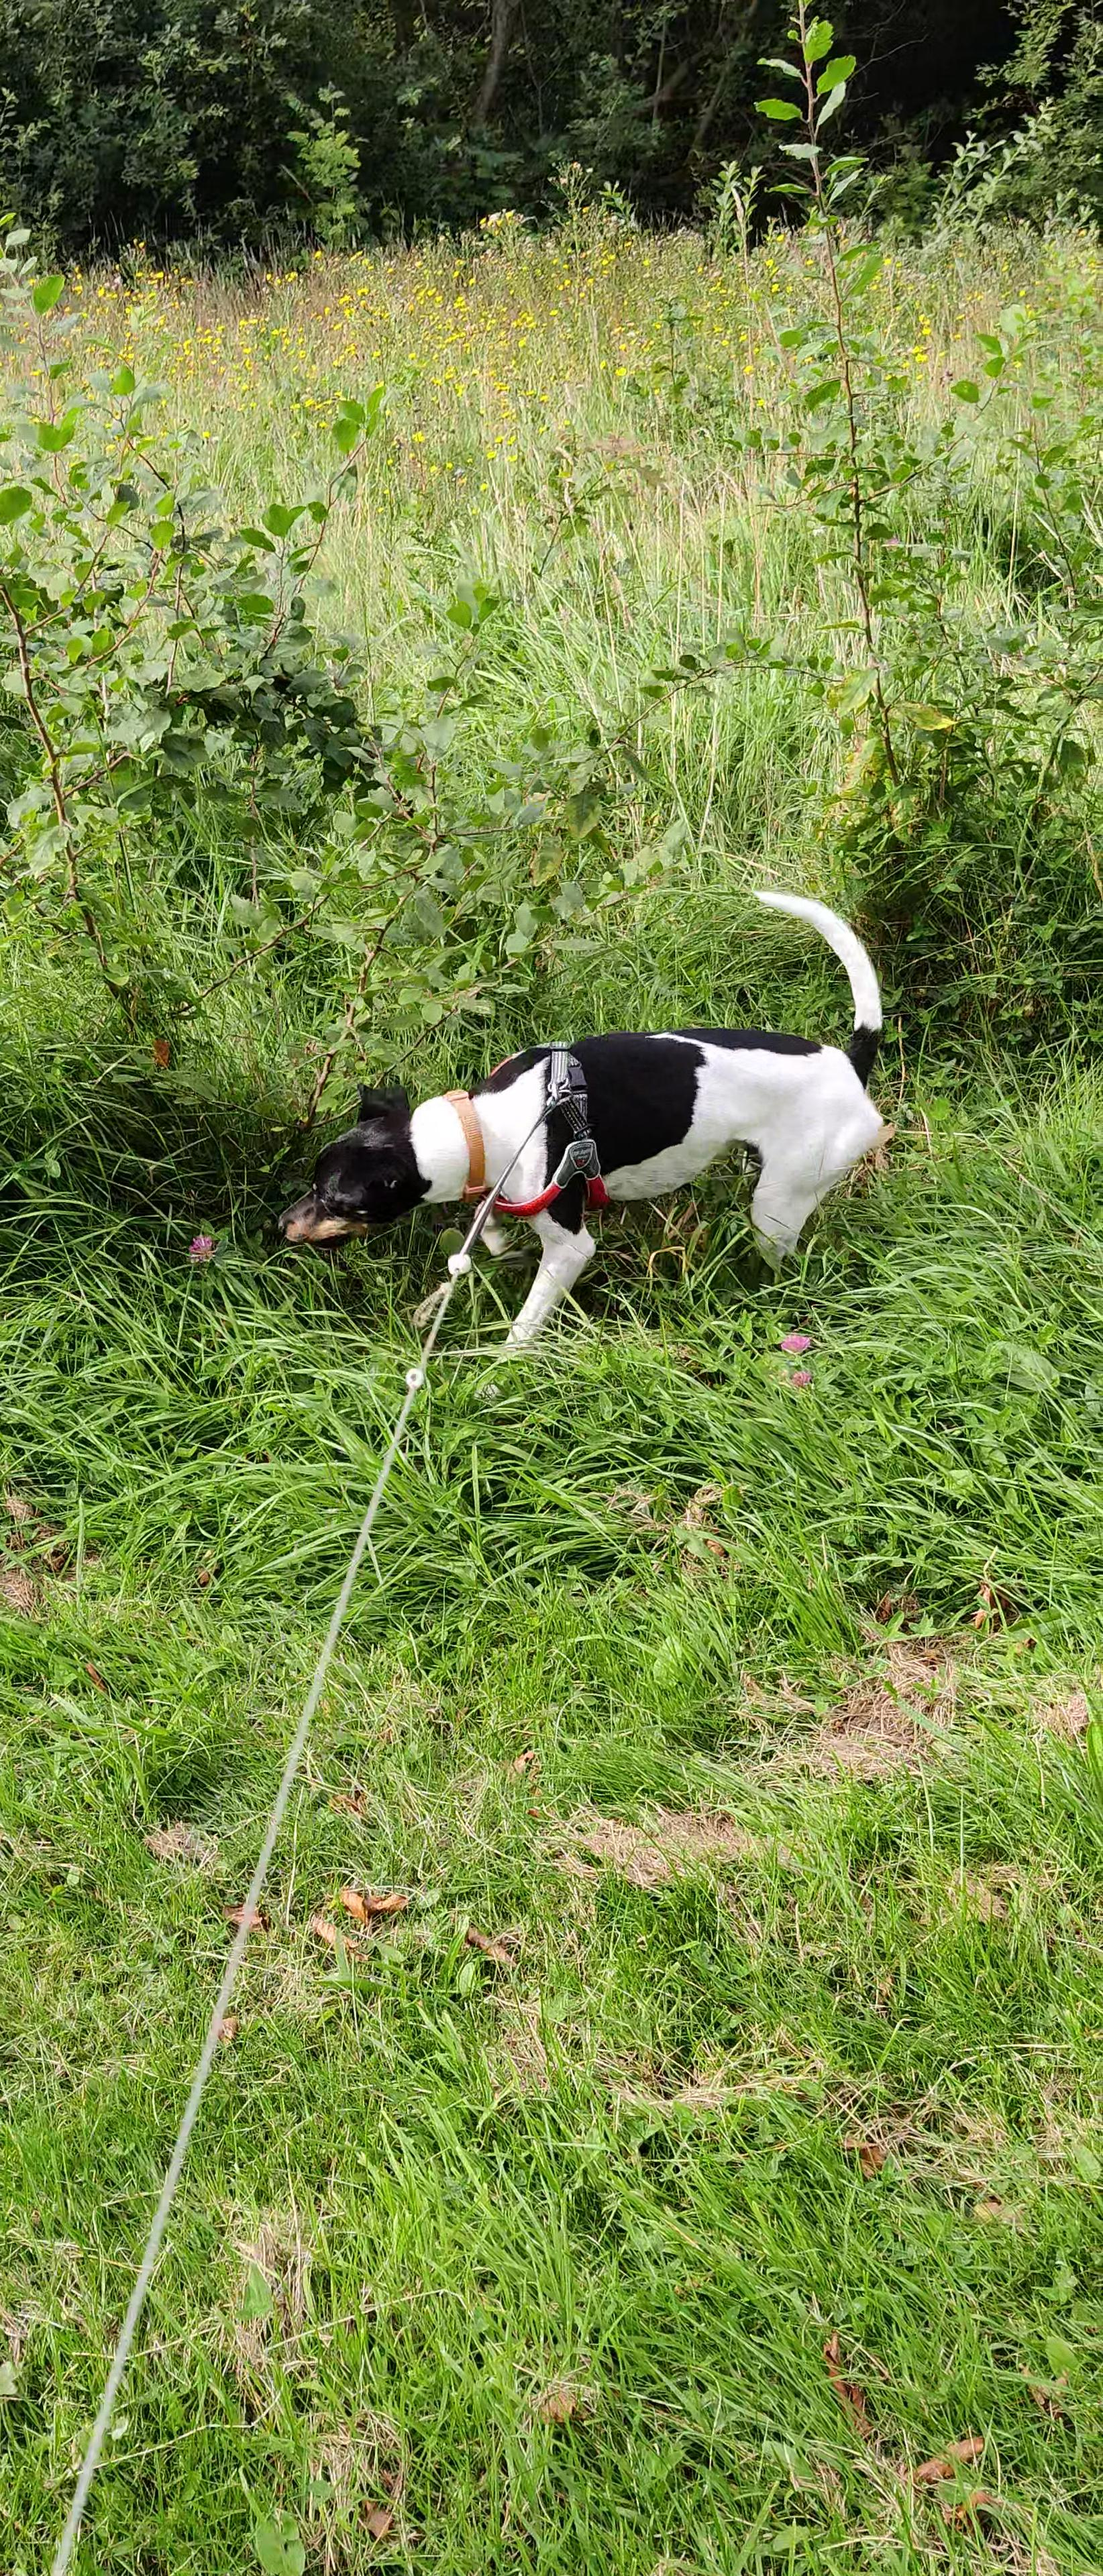Dog: (252, 885, 899, 1368)
